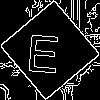E: (25, 25, 62, 74)
